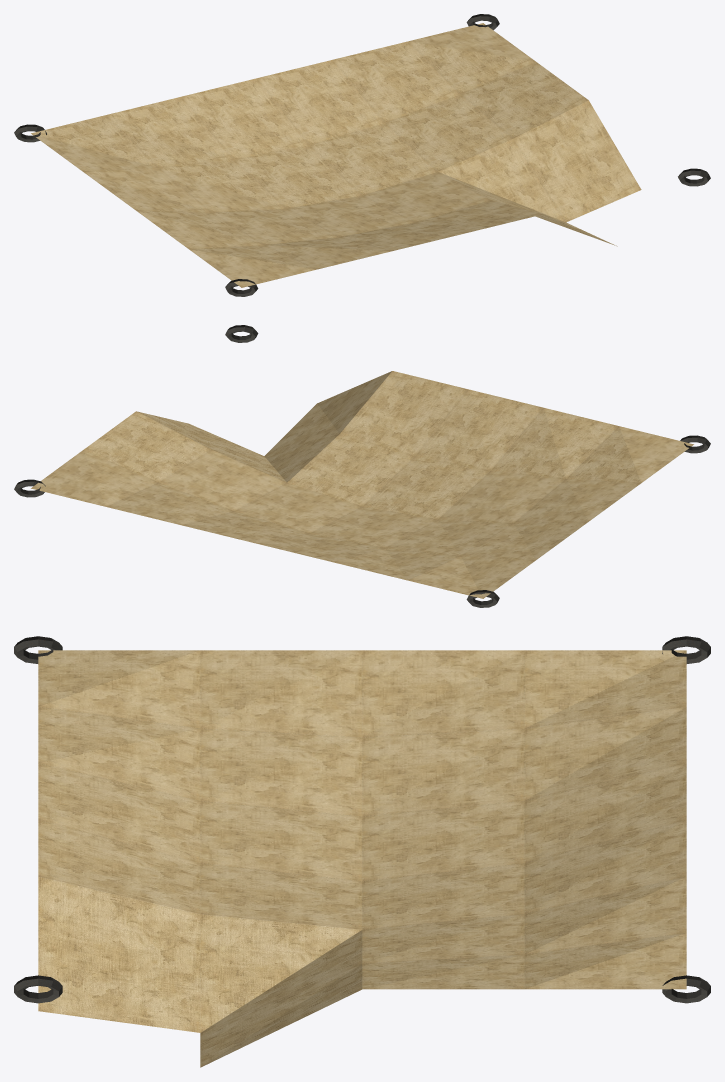
File: PRP_SHELTER_TARP_001_TORN.obj
3 views of the same model, one above another, from view 1: azimuth 30°, elevation 25°; view 2: azimuth 150°, elevation 25°; view 3: azimuth 270°, elevation 25° (orthographic). The views are drawn at different scales.
Parts seen in each view (by area): view 1: Tarp_TORN, ReinforcedTiePoint; view 2: Tarp_TORN, ReinforcedTiePoint; view 3: Tarp_TORN, ReinforcedTiePoint.
Part boxes in pixels (x1,y1,x2,y2): Tarp_TORN: (31,23,641,287); ReinforcedTiePoint: (14,14,710,296); Tarp_TORN: (31,371,693,598); ReinforcedTiePoint: (14,325,710,607); Tarp_TORN: (38,650,686,1067); ReinforcedTiePoint: (14,636,710,1003).
Size of the model in its own units: 2.77 by 0.3749 by 2.26.
Materials: 2 (2 with a texture image).
